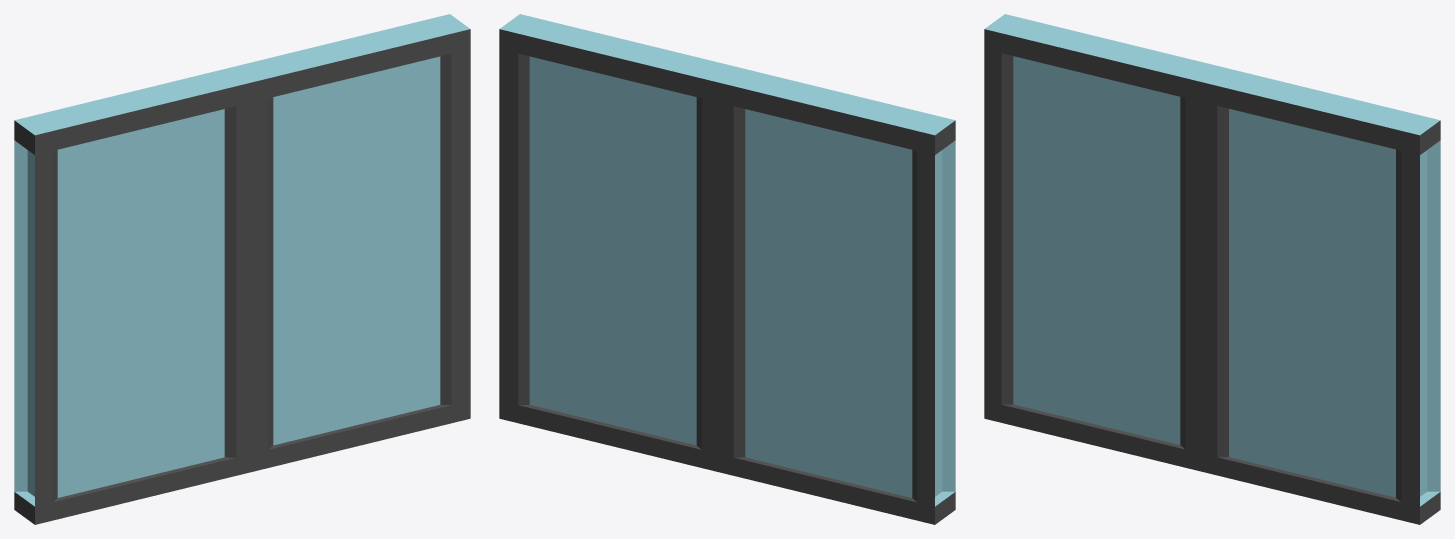
File: Doors.fbx
3 renders of one model, left to right at view 1: azimuth 30°, elevation 25°; view 2: azimuth 150°, elevation 25°; view 3: azimuth 330°, elevation 25°, orthographic.
Parts seen in each view (by area): view 1: door 1, door 1.001; view 2: door 1, door 1.001; view 3: door 1.001, door 1.
Part boxes in pixels (x1=…): door 1: x1=14, y1=67, x2=254, y2=524; door 1.001: x1=230, y1=14, x2=470, y2=471; door 1: x1=715, y1=67, x2=955, y2=524; door 1.001: x1=499, y1=14, x2=739, y2=472; door 1.001: x1=1200, y1=66, x2=1440, y2=524; door 1: x1=984, y1=14, x2=1219, y2=471.
Bounding box in the file's own units: 6.41 × 5.48 × 0.5254.
